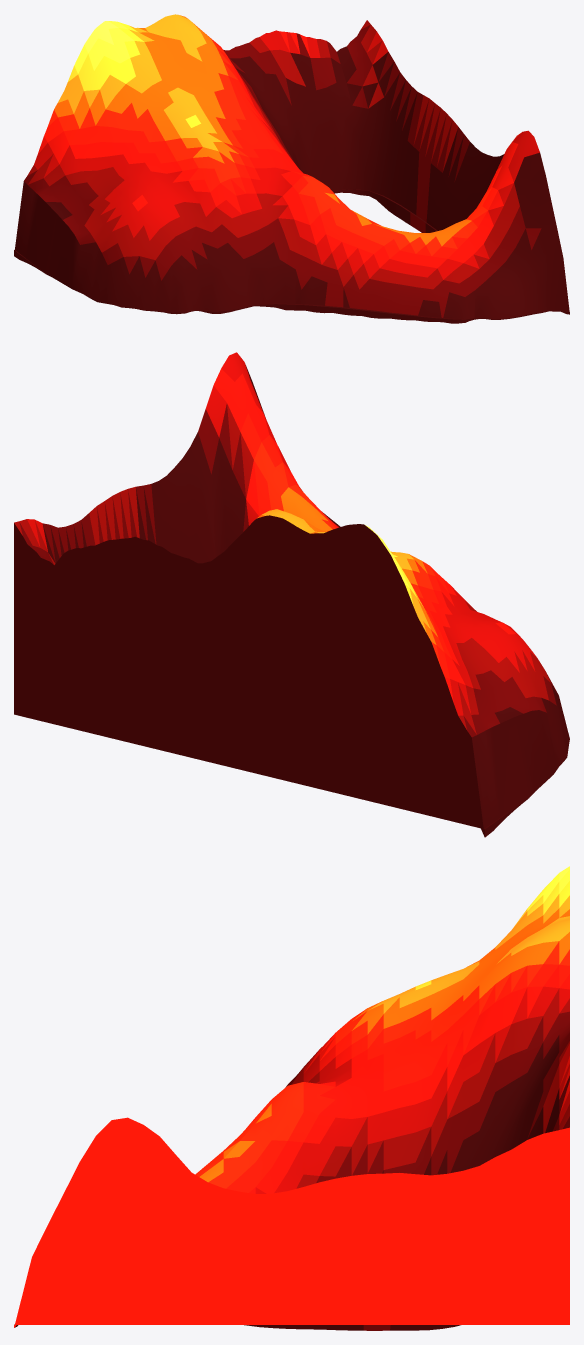
The model's file is core_fire_96.glb.
3 views of the same model, one above another, from view 1: azimuth 30°, elevation 25°; view 2: azimuth 150°, elevation 25°; view 3: azimuth 270°, elevation 25° (orthographic). The views are drawn at different scales.
Visible parts, largest first — view 1: core_fire_96_fire; view 2: core_fire_96_fire; view 3: core_fire_96_fire.
Part boxes in pixels (left/top/right/bottom): core_fire_96_fire: left=14, top=14, right=569, bottom=323; core_fire_96_fire: left=14, top=352, right=569, bottom=837; core_fire_96_fire: left=14, top=866, right=569, bottom=1330.
Size of the model in its own units: 21 by 12.47 by 20.88.
